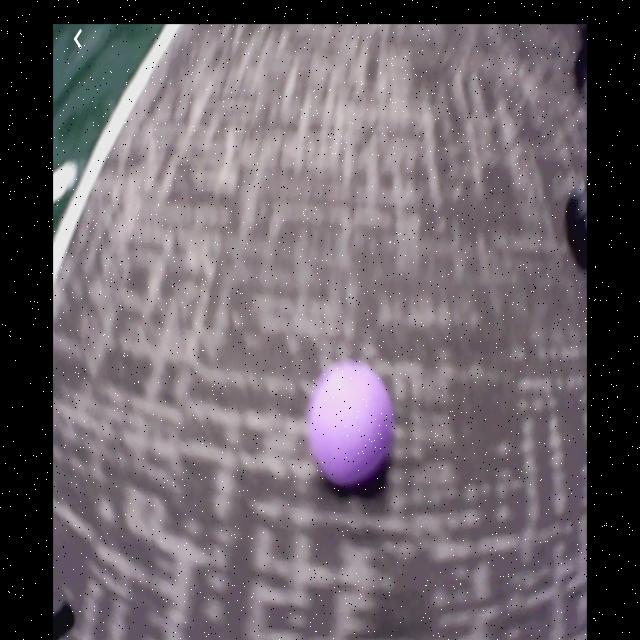ball: (311, 362, 394, 488)
